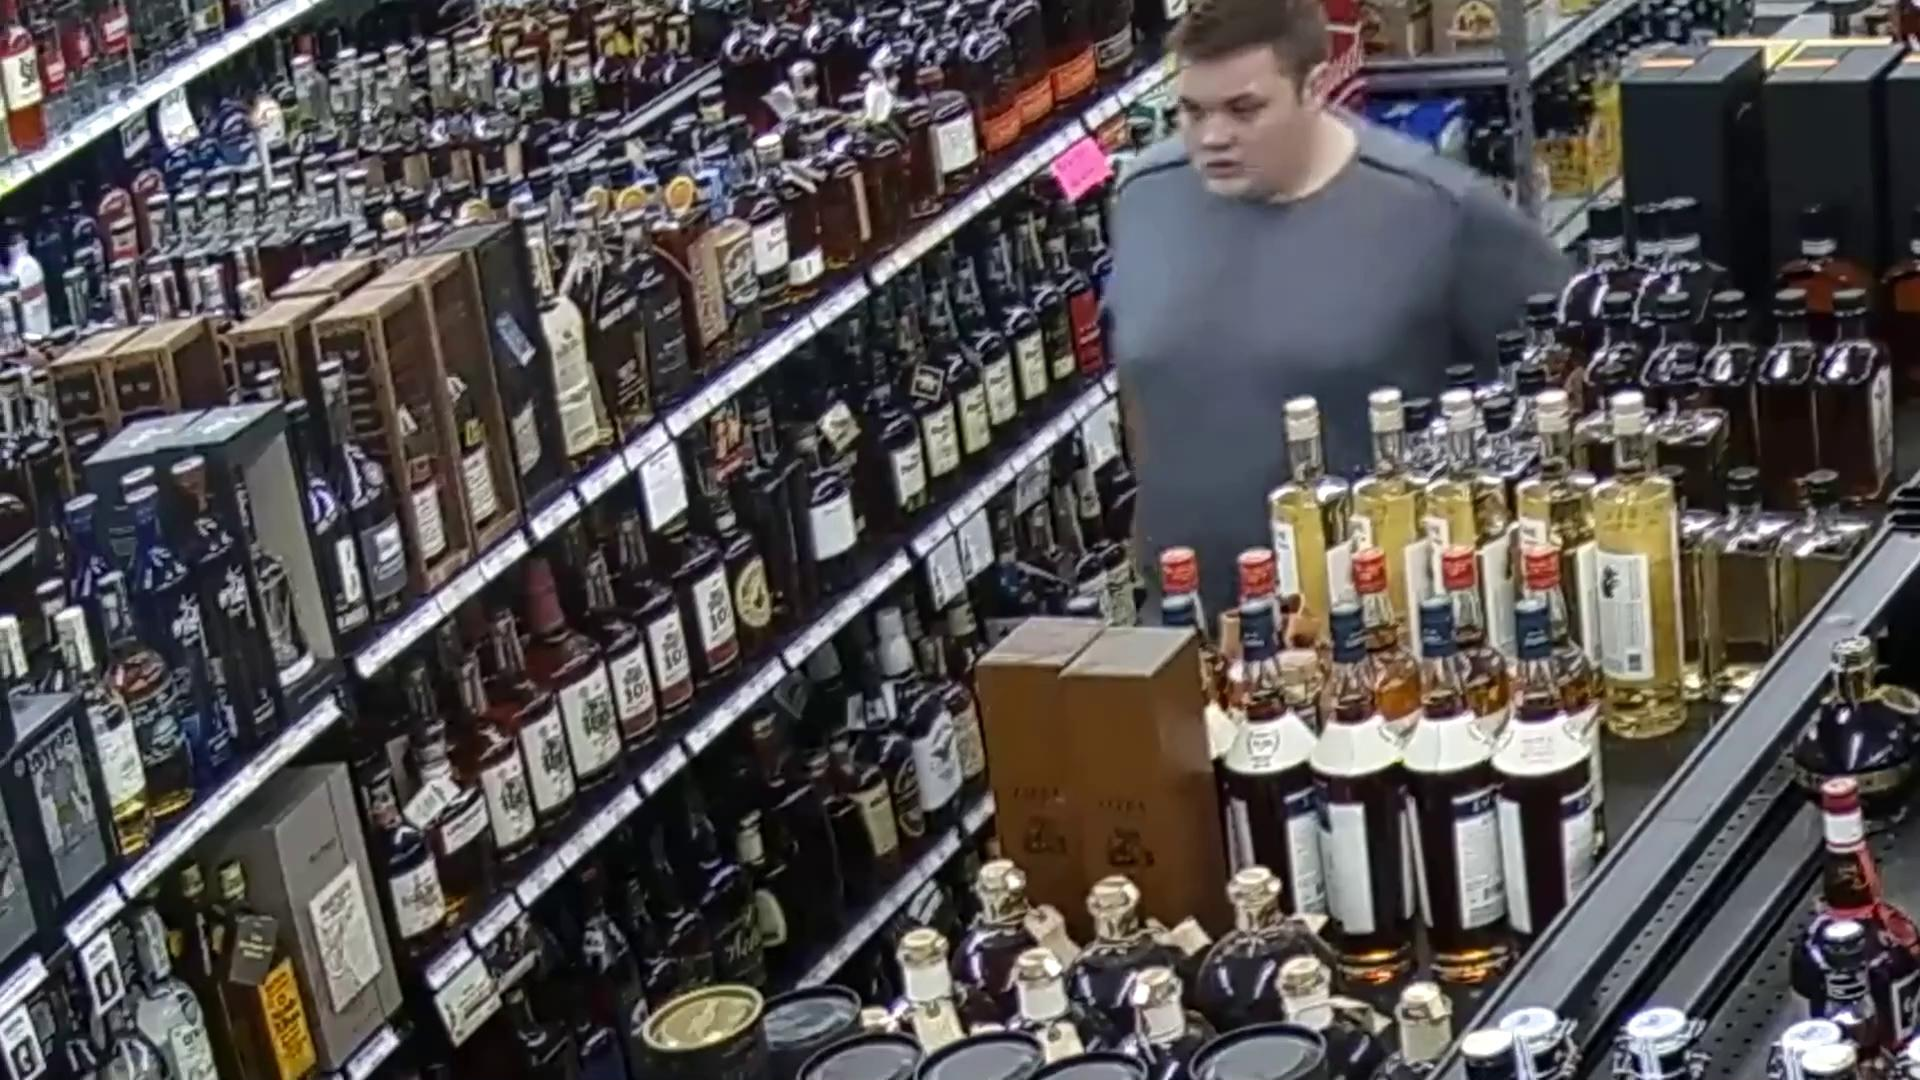Regular: (1026, 3, 1559, 600)
